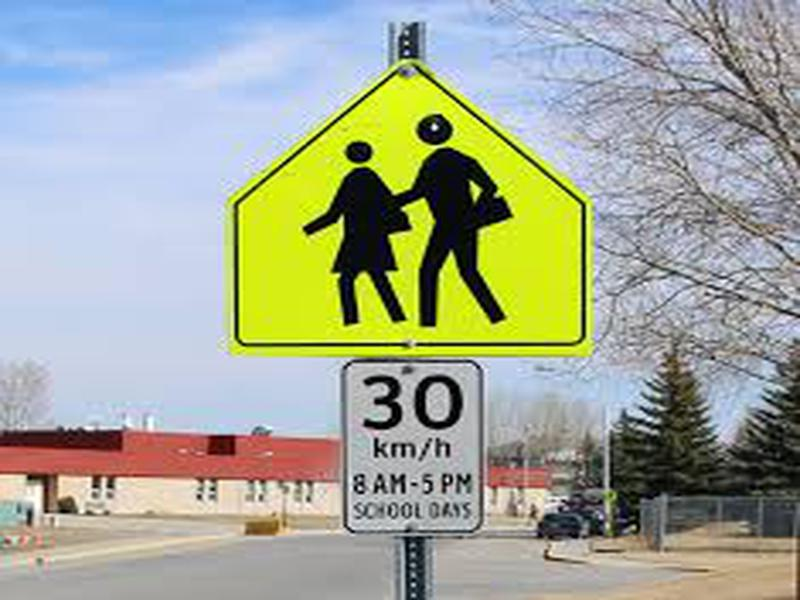slow: (215, 57, 600, 364)
